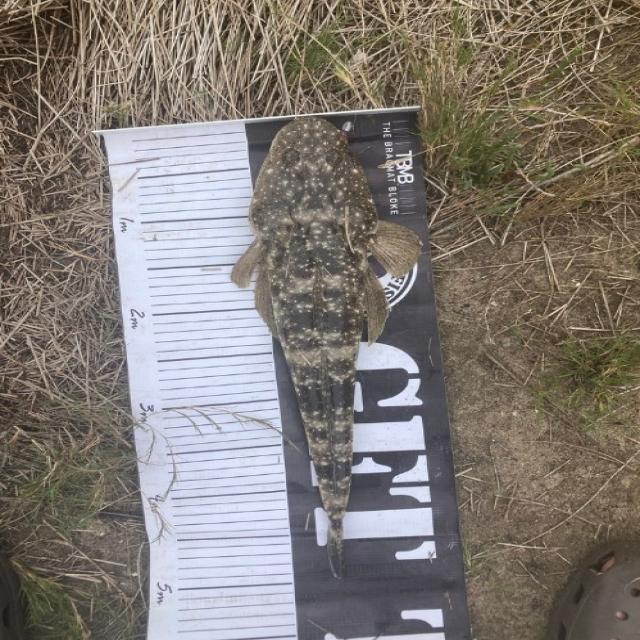Flathead: (201, 104, 445, 584)
